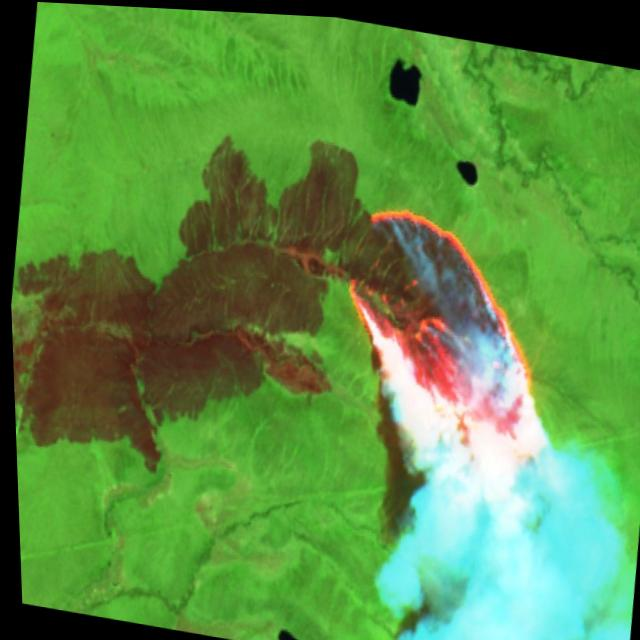fire: (315, 188, 587, 530)
